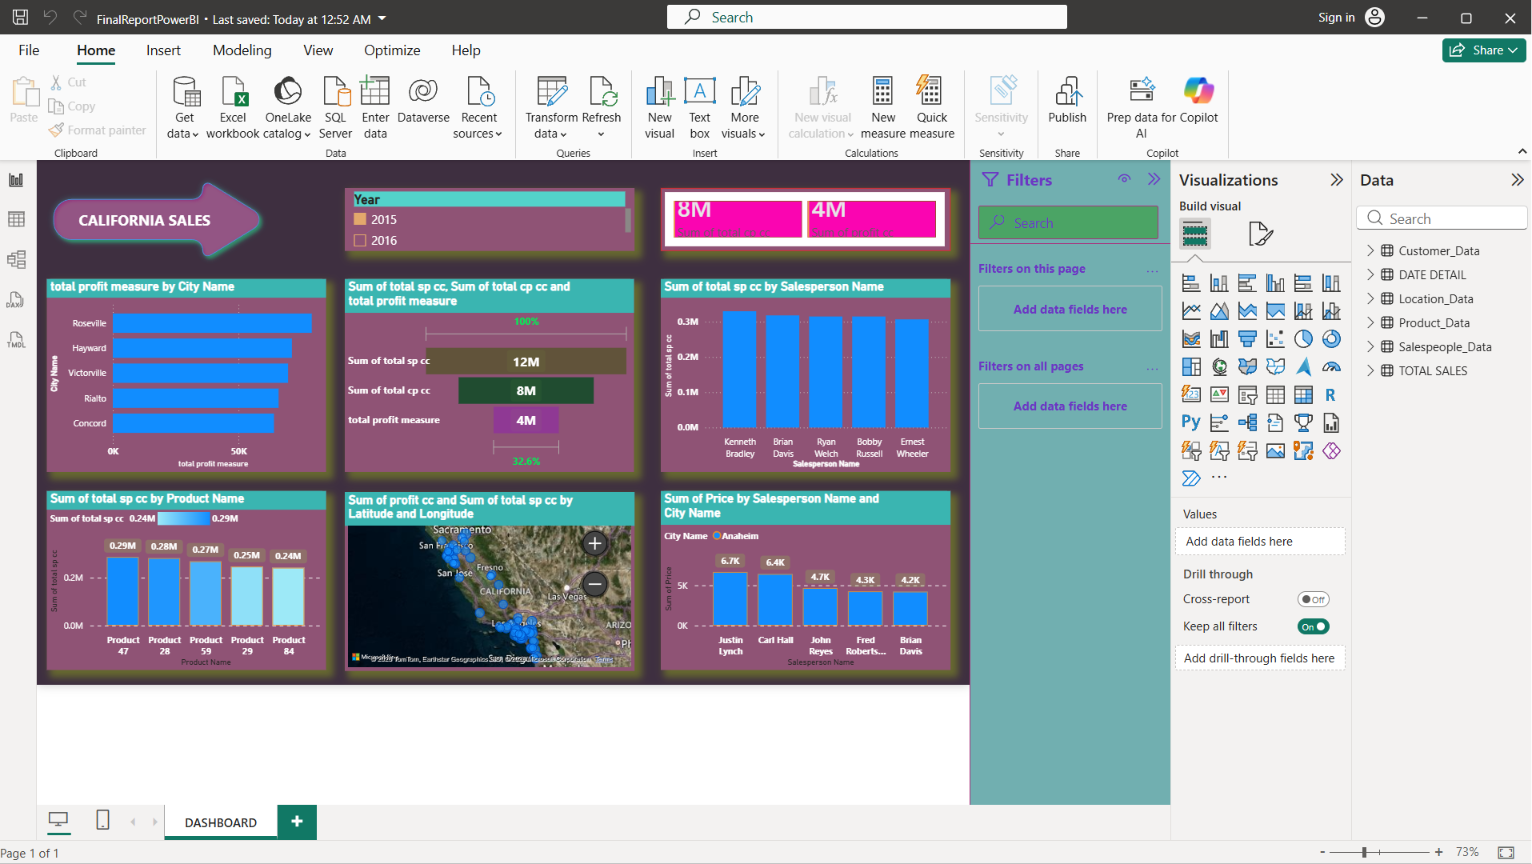

What the dashboard file says about the page in this screenshot:
{"tool":"powerbi","page":{"name":"DASHBOARD","canvas":[1280,720],"ordinal":0},"visuals":[{"type":"map","fields":{"X":["Location_Data.Longitude"],"Y":["Location_Data.Latitude"],"Size":["Sum(TOTAL SALES.profit cc)"]},"box":[422.6,455.6,397.9,245.6],"z":0},{"type":"funnel","fields":{"Y":["Sum(TOTAL SALES.total sp cc)","Sum(TOTAL SALES.total cp cc)","TOTAL SALES.total profit measure"]},"box":[422.6,163.3,396.6,264.8],"z":1000},{"type":"barChart","fields":{"Category":["Location_Data.City Name"],"Y":["TOTAL SALES.total profit measure"]},"box":[13.7,163.3,382.8,264.8],"z":2000},{"type":"columnChart","fields":{"Y":["Sum(TOTAL SALES.total sp cc)"],"Category":["Salespeople_Data.Salesperson Name"]},"box":[856.3,163.3,397.9,264.8],"z":3000},{"type":"shape","box":[13.7,16.5,314.2,130.4],"z":4000},{"type":"slicer","fields":{"Values":["DATE DETAIL.Year"]},"box":[422.6,38.4,397.9,86.4],"z":5000},{"type":"columnChart","fields":{"Category":["Product_Data.Product Name"],"Y":["Sum(TOTAL SALES.total sp cc)"]},"box":[13.7,454.2,382.8,245.6],"z":6000},{"type":"columnChart","fields":{"Category":["Salespeople_Data.Salesperson Name"],"Y":["Sum(TOTAL SALES.Price)"],"Series":["Location_Data.City Name"]},"box":[856.3,454.2,397.9,245.6],"z":7000},{"type":"cardVisual","fields":{"Data":["Sum(TOTAL SALES.total cp cc)","Sum(TOTAL SALES.profit cc)"]},"box":[856.3,38.4,397.9,86.4],"z":8000}]}

Visuals, with their boxes on the page's 1280x720 design canvas (x1, y1, x2, y2). These are canvas units, not pixel positions in the 1532x864 screenshot, which may show the page scaled, cropped or inside an application window:
map - Location_Data.Longitude x Location_Data.Latitude: 423, 456, 820, 701
funnel - Sum(TOTAL SALES.total sp cc) x Sum(TOTAL SALES.total cp cc): 423, 163, 819, 428
barChart - Location_Data.City Name x TOTAL SALES.total profit measure: 14, 163, 396, 428
columnChart - Sum(TOTAL SALES.total sp cc) x Salespeople_Data.Salesperson Name: 856, 163, 1254, 428
shape: 14, 16, 328, 147
slicer - DATE DETAIL.Year: 423, 38, 820, 125
columnChart - Product_Data.Product Name x Sum(TOTAL SALES.total sp cc): 14, 454, 396, 700
columnChart - Salespeople_Data.Salesperson Name x Sum(TOTAL SALES.Price): 856, 454, 1254, 700
cardVisual - Sum(TOTAL SALES.total cp cc) x Sum(TOTAL SALES.profit cc): 856, 38, 1254, 125
